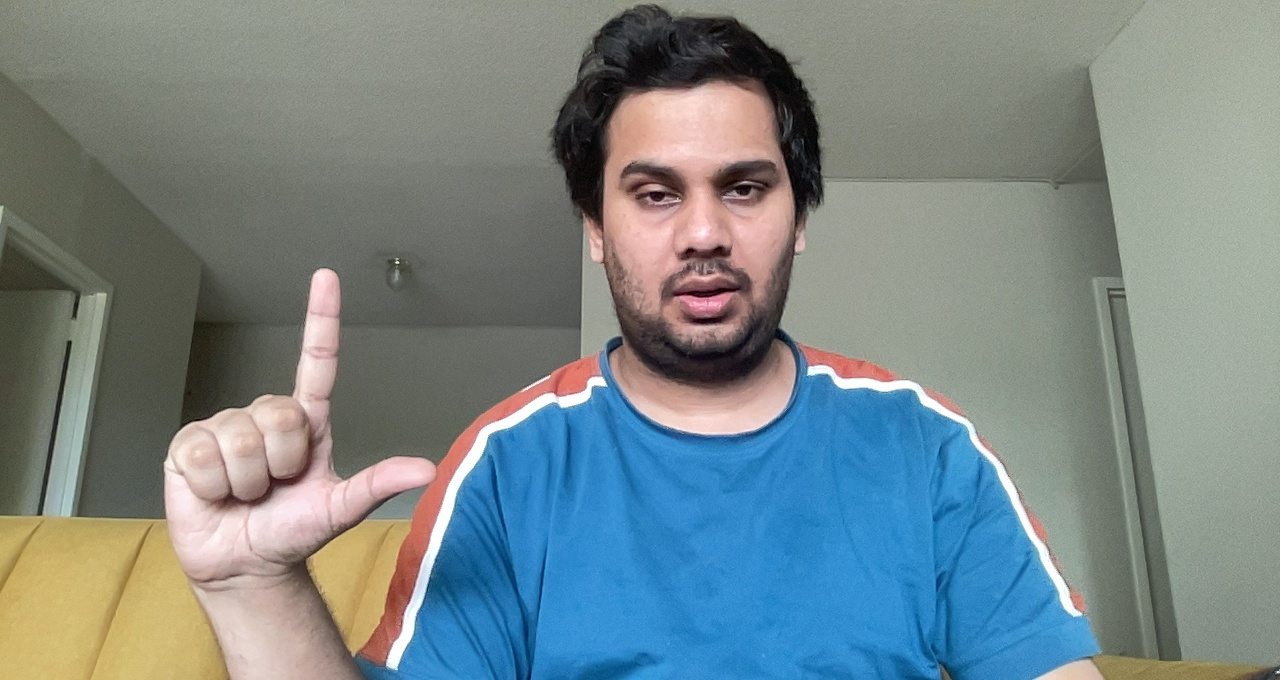L: (150, 257, 445, 595)
